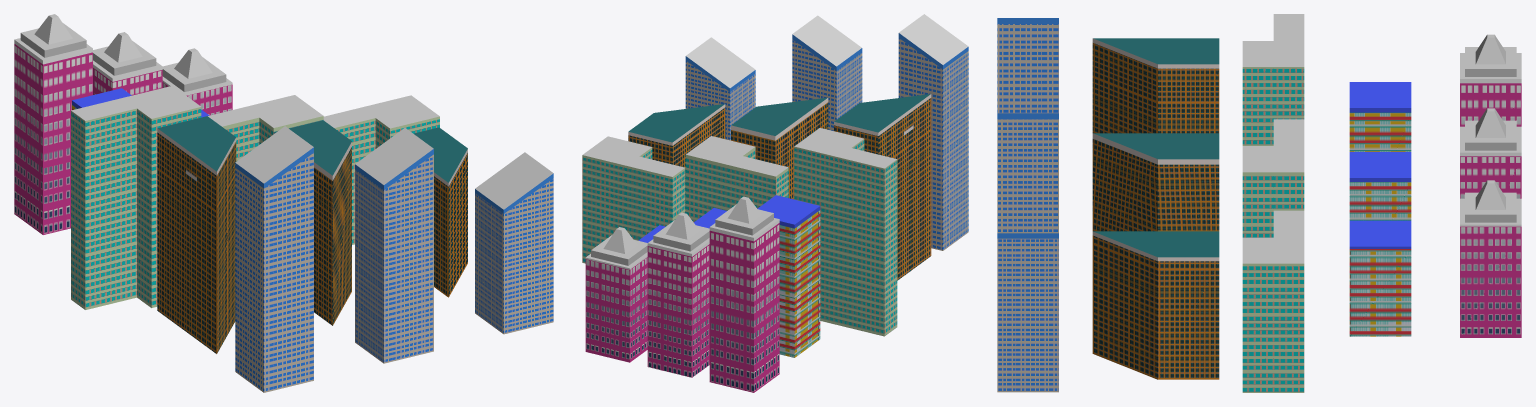
Rendered from back_buildings.fbx.
3 views of the same model, side by side, from view 1: azimuth 30°, elevation 25°; view 2: azimuth 150°, elevation 25°; view 3: azimuth 270°, elevation 25° (orthographic). The views are drawn at different scales.
Parts seen in each view (by area): view 1: building_5, building_4, building_3, building_1, building_2; view 2: building_3, building_1, building_5, building_4, building_2; view 3: building_4, building_5, building_3, building_1, building_2.
Part boxes in pixels (x1=…): building_5: x1=235, y1=126, x2=553, y2=392; building_4: x1=157, y1=116, x2=467, y2=353; building_3: x1=71, y1=86, x2=439, y2=309; building_1: x1=14, y1=14, x2=232, y2=234; building_2: x1=72, y1=88, x2=209, y2=117; building_3: x1=582, y1=128, x2=897, y2=336; building_1: x1=585, y1=196, x2=779, y2=392; building_5: x1=685, y1=14, x2=968, y2=250; building_4: x1=628, y1=94, x2=931, y2=280; building_2: x1=638, y1=195, x2=820, y2=357; building_4: x1=1092, y1=38, x2=1219, y2=379; building_5: x1=997, y1=18, x2=1058, y2=392; building_3: x1=1242, y1=14, x2=1304, y2=392; building_1: x1=1460, y1=34, x2=1521, y2=337; building_2: x1=1349, y1=82, x2=1411, y2=336.
Bounding box in the file's own units: 2166 × 1421 × 2709.
6 materials, 5 textured.
